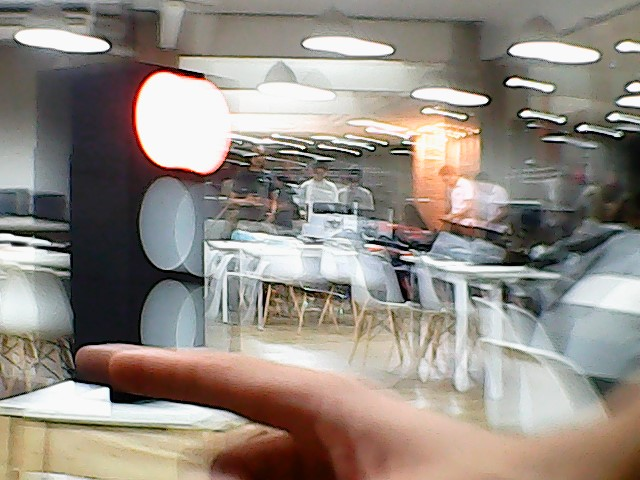vermelho: (64, 52, 234, 388)
